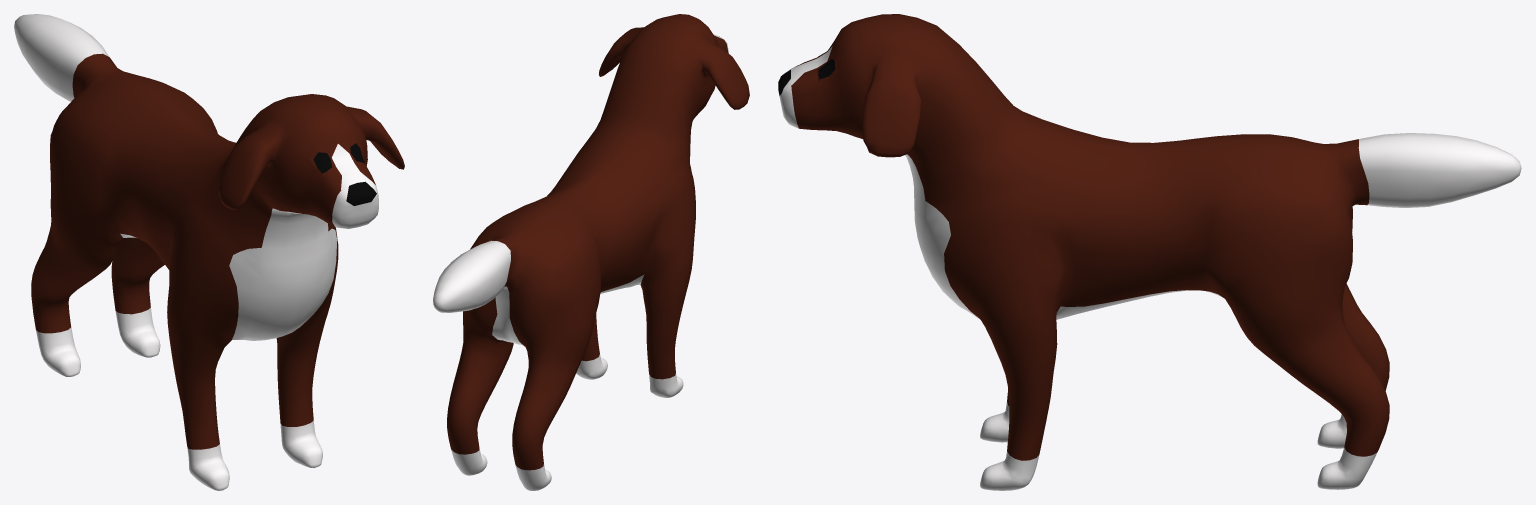
The model's file is dog.FBX.
3 renders of one model, left to right at view 1: azimuth 30°, elevation 25°; view 2: azimuth 150°, elevation 25°; view 3: azimuth 270°, elevation 25°, orthographic. The views are drawn at different scales.
Visible parts, largest first — view 1: dog; view 2: dog; view 3: dog.
Part boxes in pixels (x1,y1,x2,y2): dog: (14, 14, 404, 490); dog: (433, 14, 749, 490); dog: (778, 14, 1521, 490).
Bounding box in the file's own units: 39.13 × 89.28 × 135.
